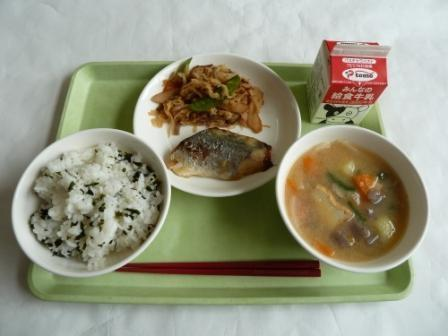Fish: (163, 123, 273, 191)
Milk: (303, 32, 391, 130)
Rice: (14, 130, 167, 271)
Soups: (271, 120, 436, 274)
vegetable based cooked food: (146, 55, 267, 129)
